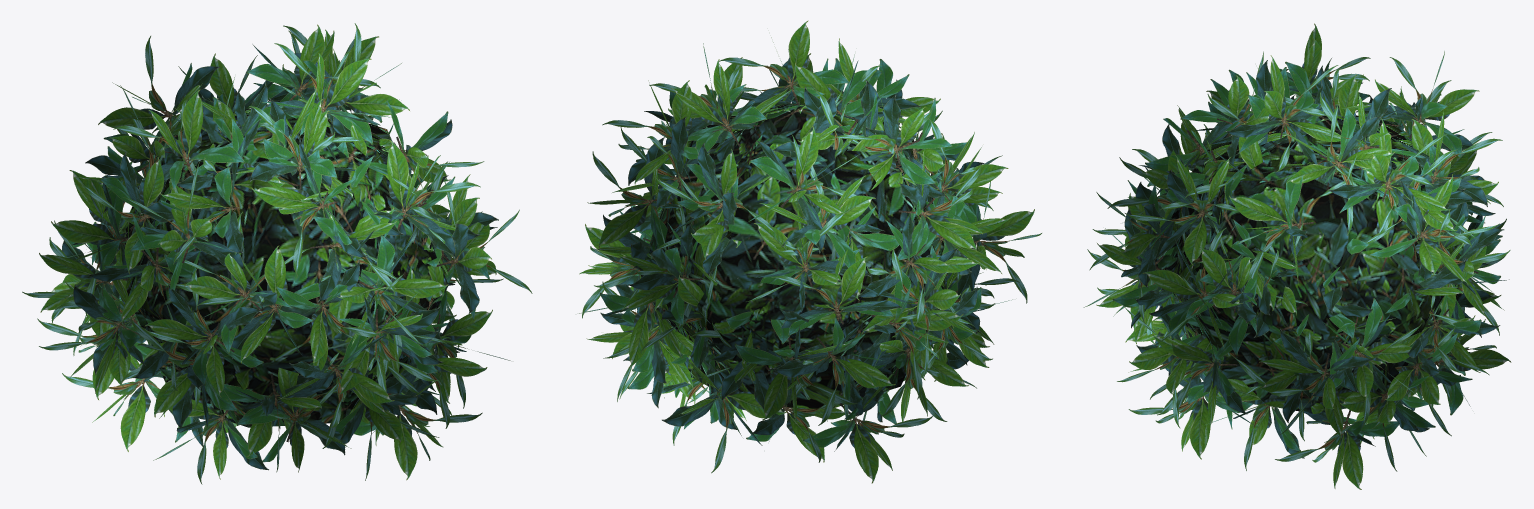
File: hedge-small-round.glb
3 renders of one model, left to right at view 1: azimuth 30°, elevation 25°; view 2: azimuth 150°, elevation 25°; view 3: azimuth 270°, elevation 25°, orthographic. The views are drawn at different scales.
Bounding box in the file's own units: 23.92 × 21.96 × 21.75.
Materials: 1 (1 with a texture image).
